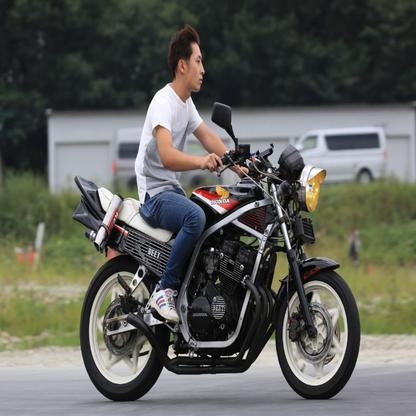target: (73, 25, 362, 405)
